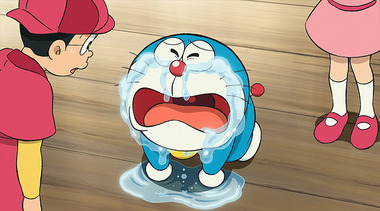Doraemon: (118, 26, 265, 189)
